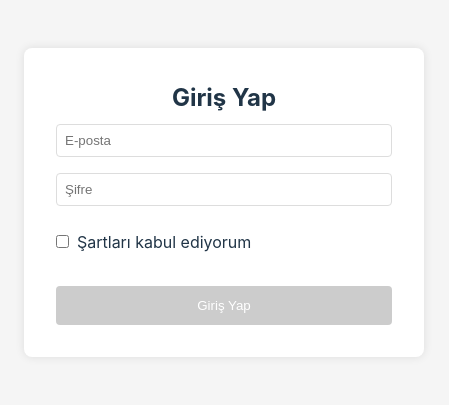
Test: Login Form › email ve şifre hatalı olduğunda iki hata mesajı göstermeli
This screenshot has width=449, height=405.
Step 1. Type "invalid-email" into the field named "email" → (224, 141), box x1=56 y1=124 x2=392 y2=157
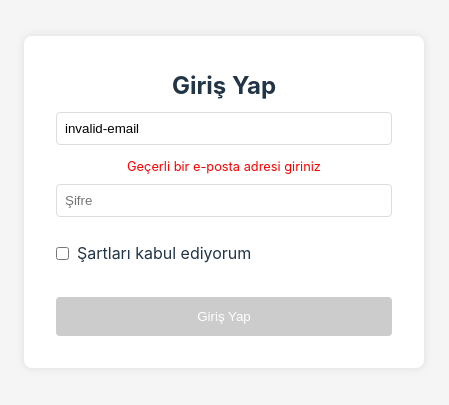
Step 2. Type "123" into the password field named "password" → (224, 201), box x1=56 y1=184 x2=392 y2=217
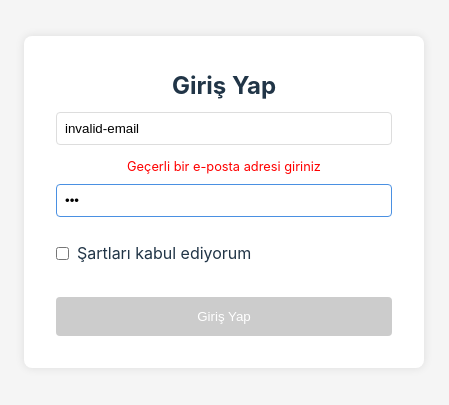
Step 3. Leave the password field named "password", box x1=56 y1=184 x2=392 y2=217
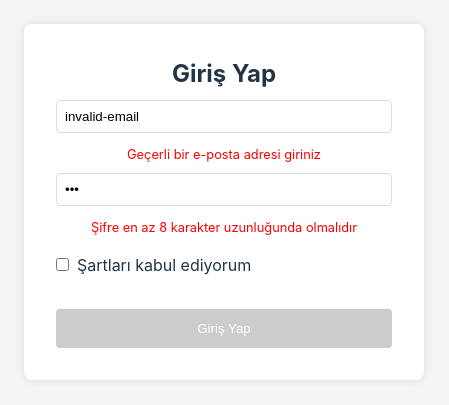
Expected: the submit button is disabled, x1=56 y1=309 x2=392 y2=348
Now the text "Geçerli bir e-posta adresi giriniz" is shown, box x1=127 y1=147 x2=321 y2=162
Now the text "Şifre en az 8 karakter uzunluğunda olmalıdır" is shown, box x1=91 y1=220 x2=357 y2=234
